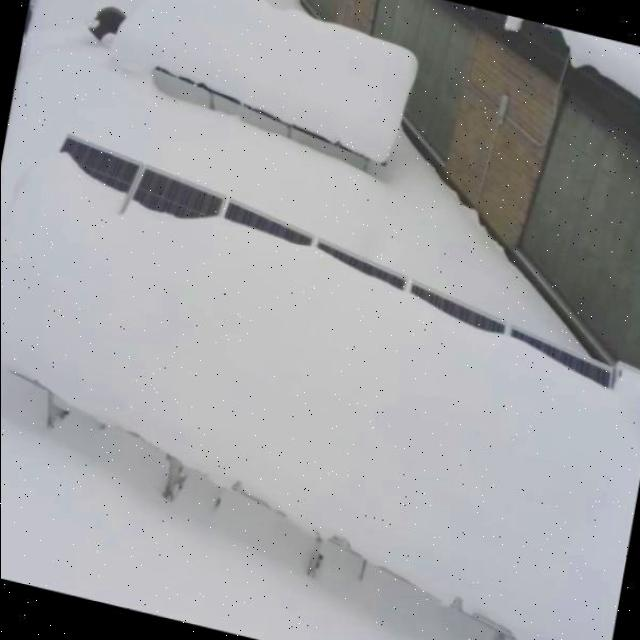Anomaly Solar Panel: (0, 142, 640, 640), (153, 0, 418, 167)
Snow: (0, 141, 640, 640), (153, 0, 419, 164)
